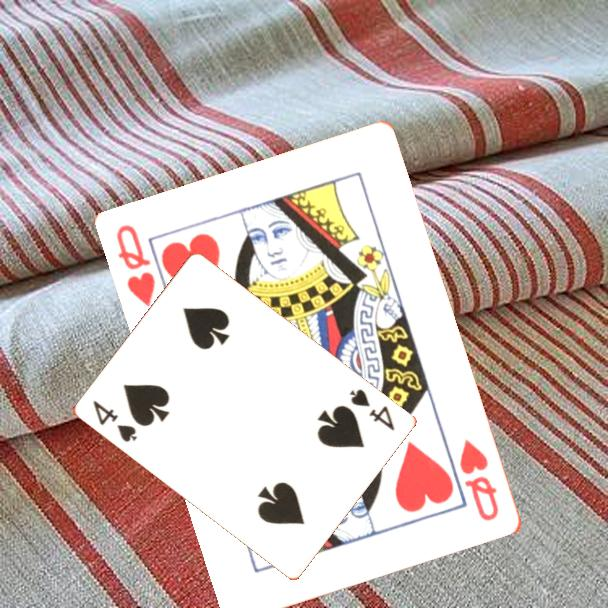h12: (456, 435, 503, 525), (113, 221, 159, 310)
s04: (345, 386, 397, 434), (89, 397, 140, 445)
